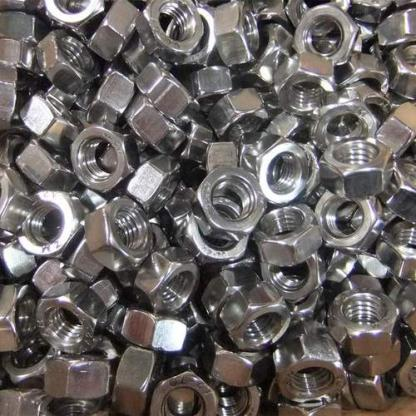FOD: (82, 198, 152, 276), (35, 284, 107, 357), (328, 284, 400, 357), (68, 122, 138, 194), (317, 135, 394, 197), (253, 201, 321, 266), (194, 169, 266, 230), (136, 0, 206, 59), (119, 308, 188, 354)
